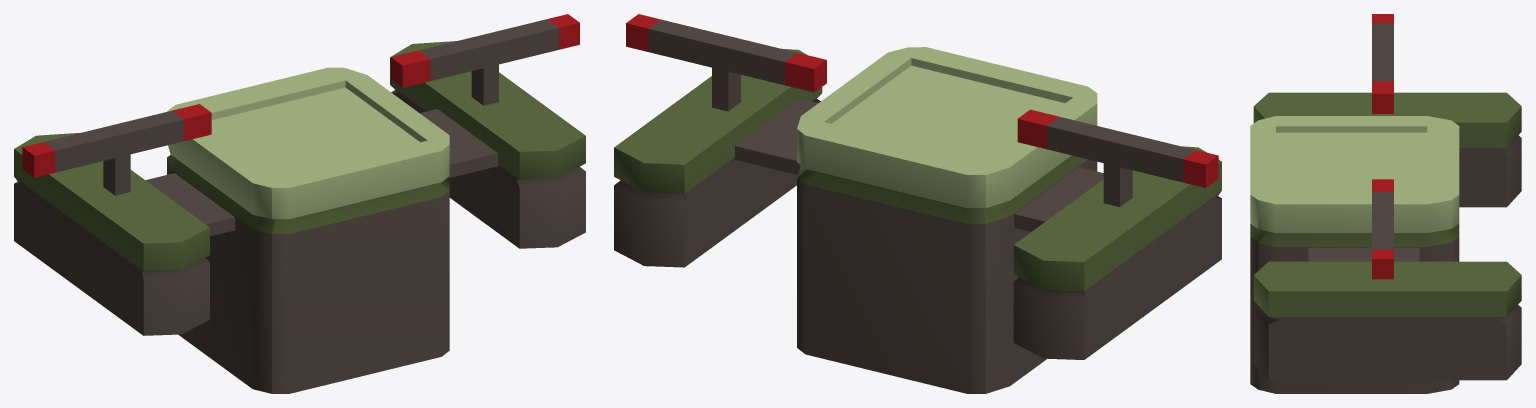
The model's file is FighterPlane5.fbx.
3 renders of one model, left to right at view 1: azimuth 30°, elevation 25°; view 2: azimuth 150°, elevation 25°; view 3: azimuth 270°, elevation 25°, orthographic. The views are drawn at different scales.
Visible parts, largest first — view 1: FighterPlane5, Fan5, Fan6; view 2: FighterPlane5, Fan5, Fan6; view 3: FighterPlane5, Fan6, Fan5.
Boxes of the visible parts, x1,y1,x2,y2 form: FighterPlane5: [14, 41, 585, 393]; Fan5: [22, 104, 211, 195]; Fan6: [391, 14, 579, 105]; FighterPlane5: [614, 47, 1221, 393]; Fan5: [1017, 109, 1218, 206]; Fan6: [626, 14, 826, 111]; FighterPlane5: [1250, 92, 1521, 393]; Fan6: [1372, 179, 1393, 279]; Fan5: [1372, 14, 1393, 113].
Size of the model in its own units: 35.41 by 14.62 by 16.59.
